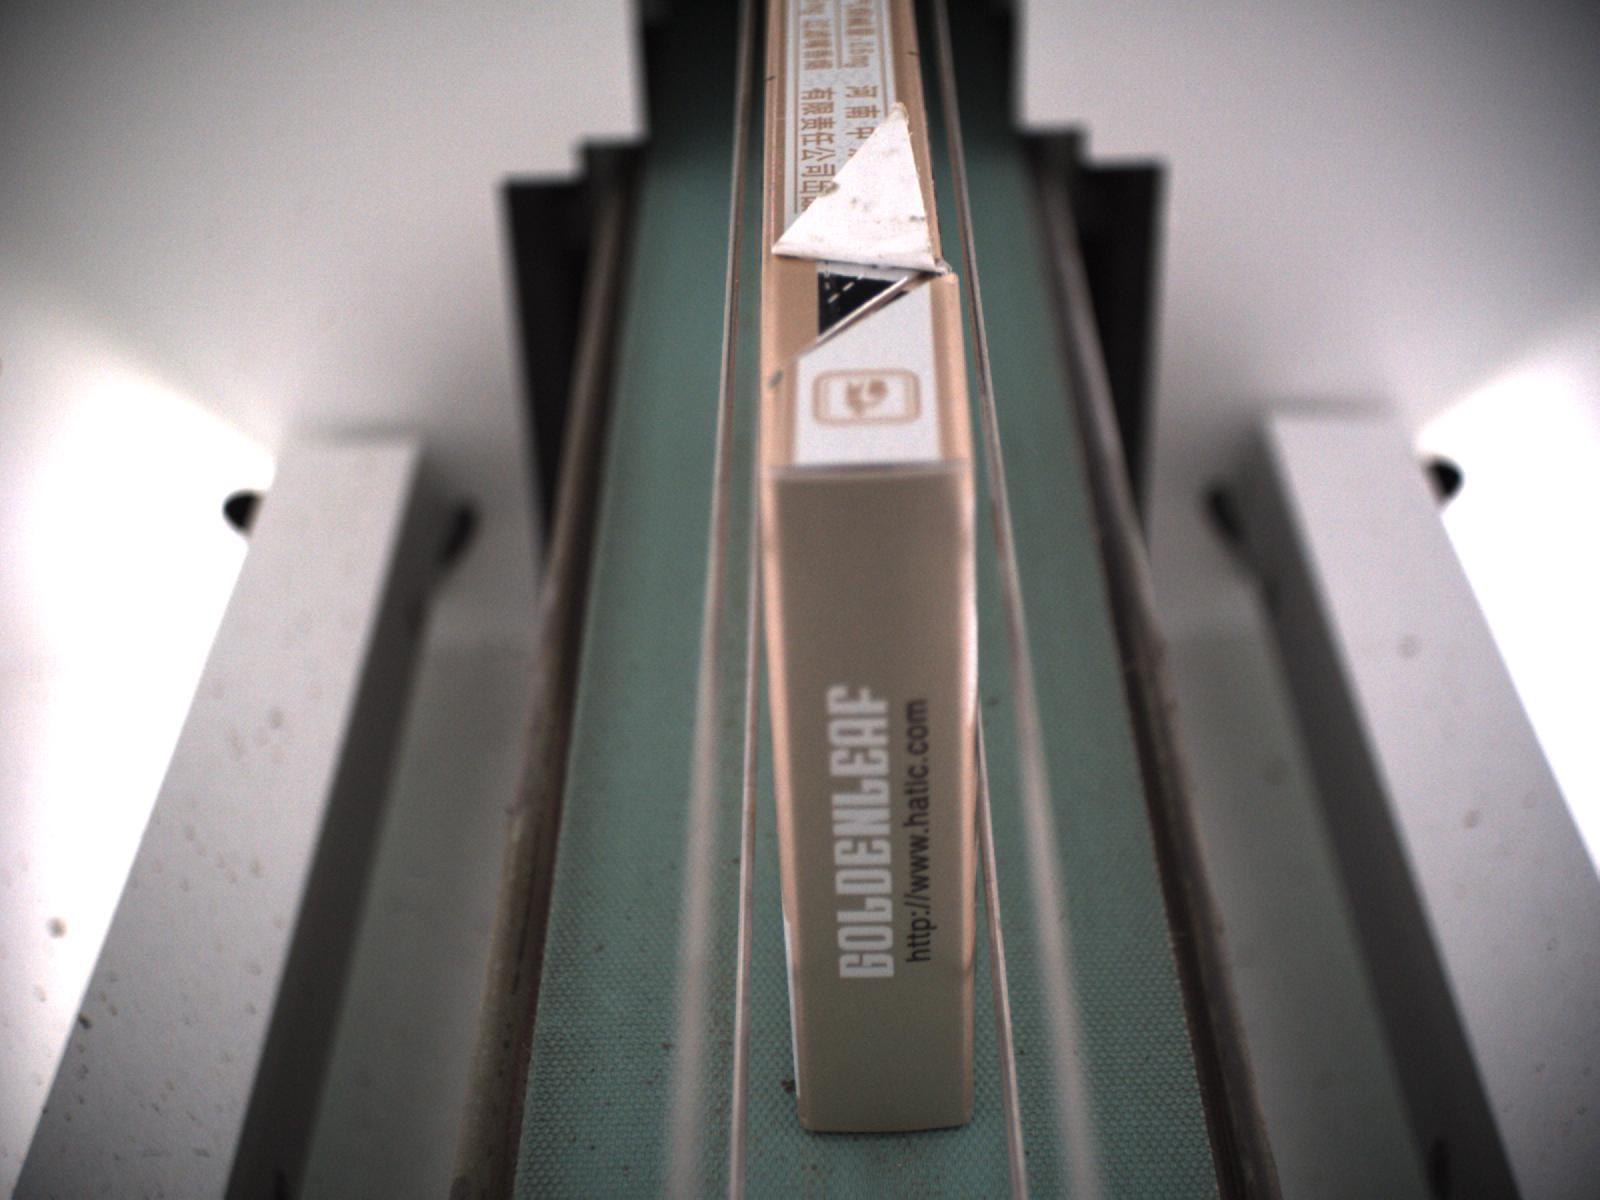outerFold_upper_2: (763, 97, 959, 383)
